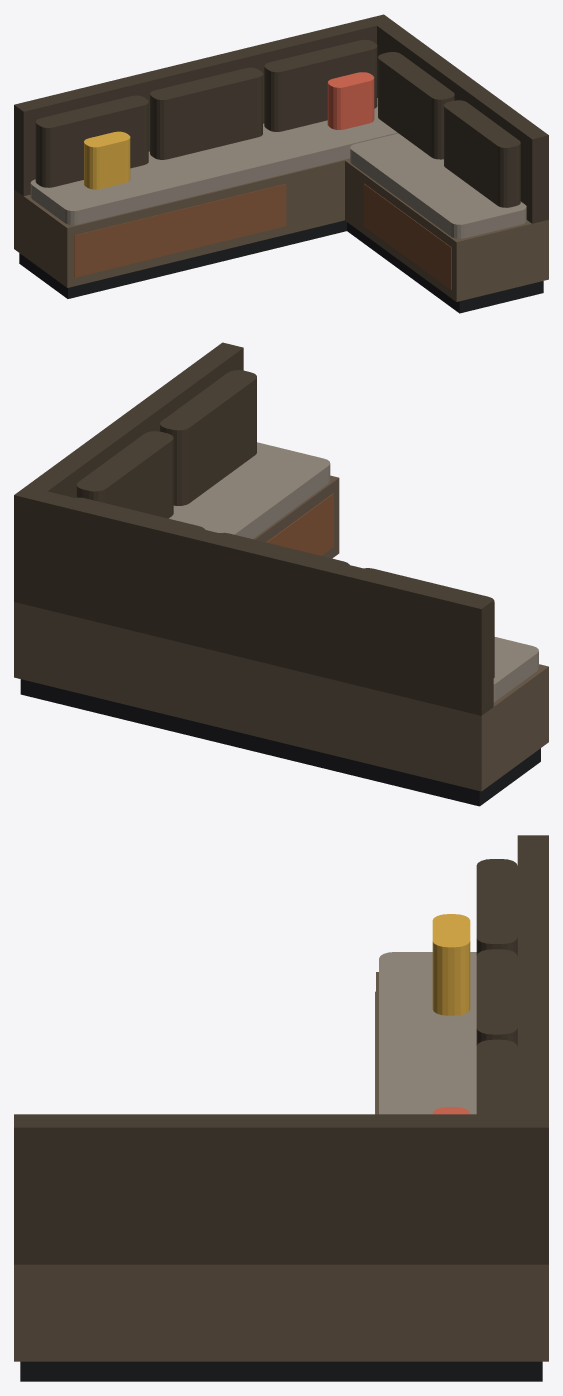
The model's file is banquette_bench.glb.
3 renders of one model, top to bottom at view 1: azimuth 30°, elevation 25°; view 2: azimuth 150°, elevation 25°; view 3: azimuth 270°, elevation 25°, orthographic. The views are drawn at different scales.
Visible parts, largest first — view 1: banquette_bench_Body; view 2: banquette_bench_Body; view 3: banquette_bench_Body.
Part boxes in pixels (box(x1,y1,x2,y2)): banquette_bench_Body: box(14, 14, 548, 313); banquette_bench_Body: box(14, 342, 548, 806); banquette_bench_Body: box(14, 835, 548, 1381).
Size of the model in its own units: 2.2 by 0.9 by 1.7.
